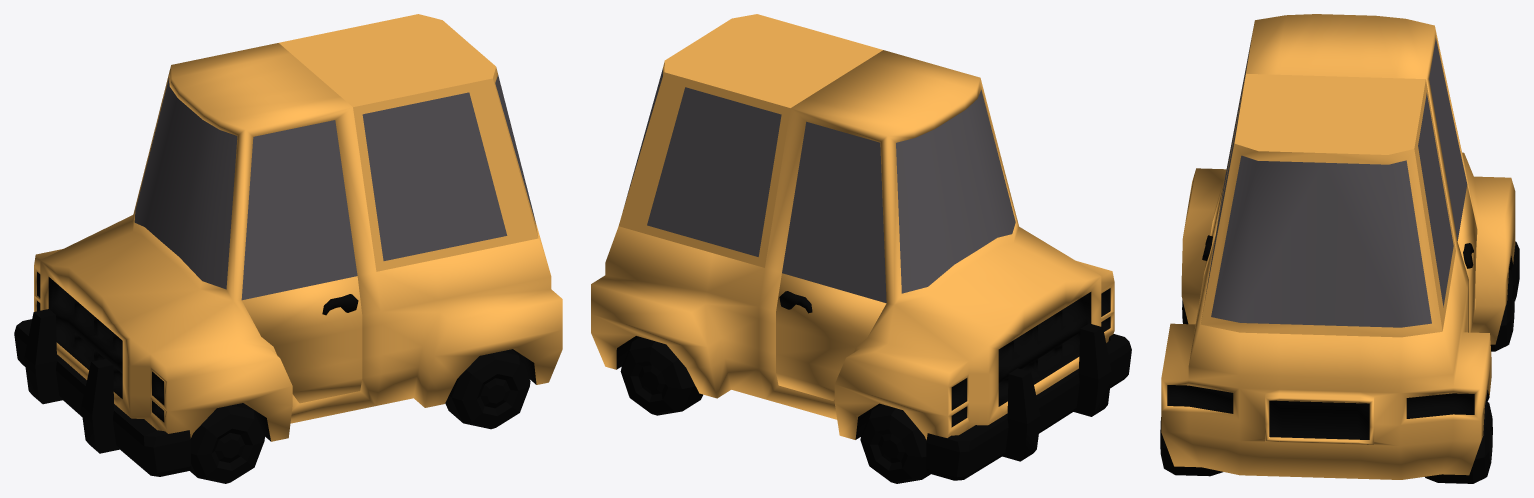
The model's file is ToyObject_193.fbx.
3 renders of one model, left to right at view 1: azimuth 30°, elevation 25°; view 2: azimuth 150°, elevation 25°; view 3: azimuth 270°, elevation 25°, orthographic. The views are drawn at different scales.
Visible parts, largest first — view 1: object-1.078; view 2: object-1.078; view 3: object-1.078.
Boxes of the visible parts, x1,y1,x2,y2 form: object-1.078: (14, 14, 562, 483); object-1.078: (591, 14, 1131, 483); object-1.078: (1160, 14, 1519, 483).
Bounding box in the file's own units: 0.1525 × 0.1053 × 0.0995.
